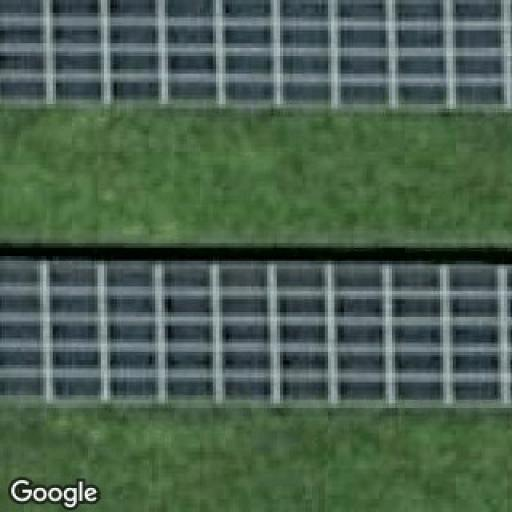solar-panel: (0, 262, 512, 413), (0, 0, 512, 107)
